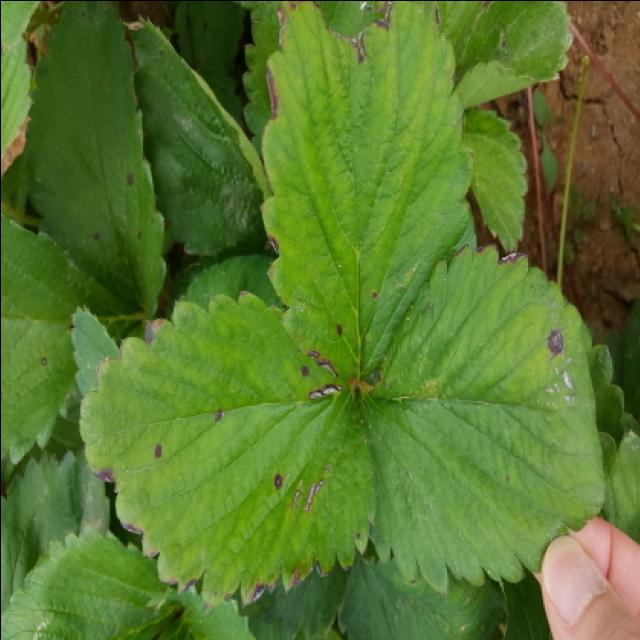Leaf Spot: (78, 289, 377, 611), (358, 239, 604, 596), (256, 2, 476, 386), (20, 2, 164, 317), (2, 211, 144, 467)
